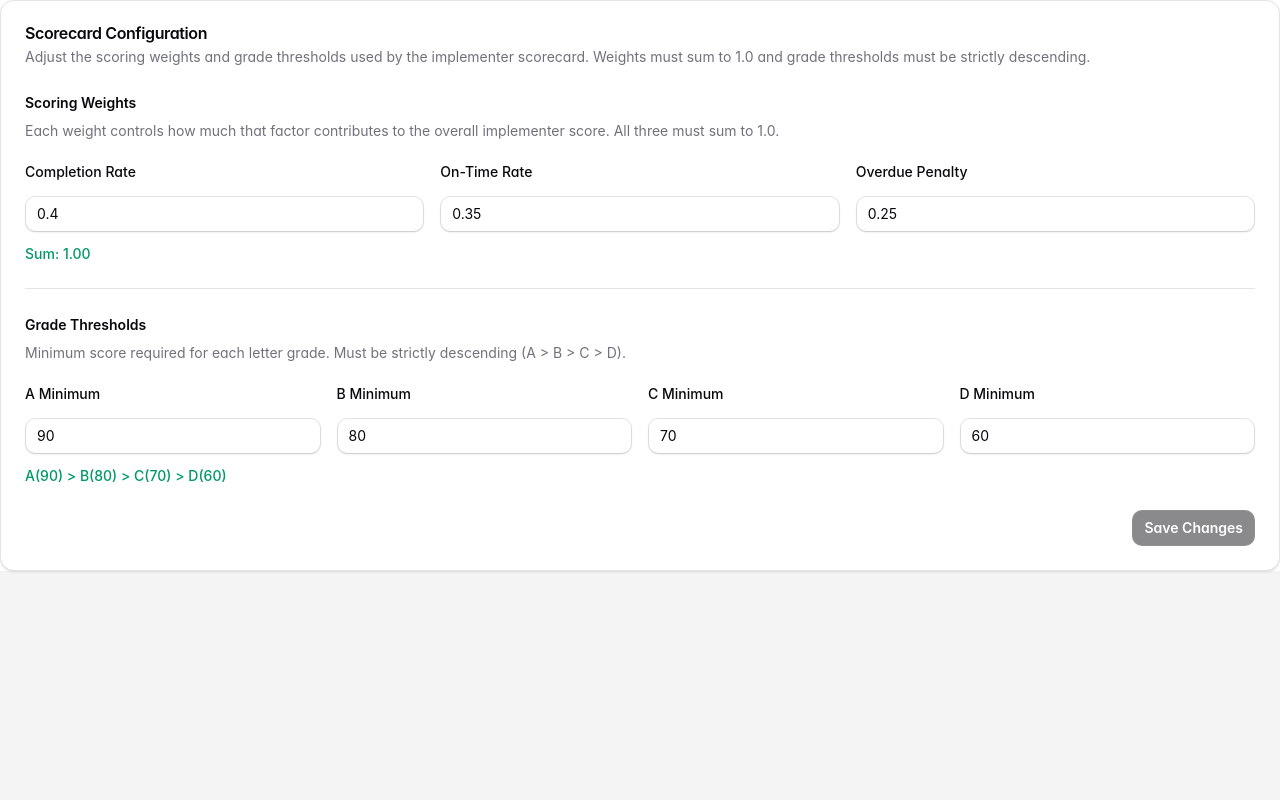
Test case: ScorecardConfigSection › enables Save button when form is dirty and valid
The image size is (1280, 800).
Expected: the text "Scoring Weights" is shown, [25,94,136,111]
Replace the text in the number field labelled "Completion Rate" with "0.45" at (225, 214), box [25,196,424,232]
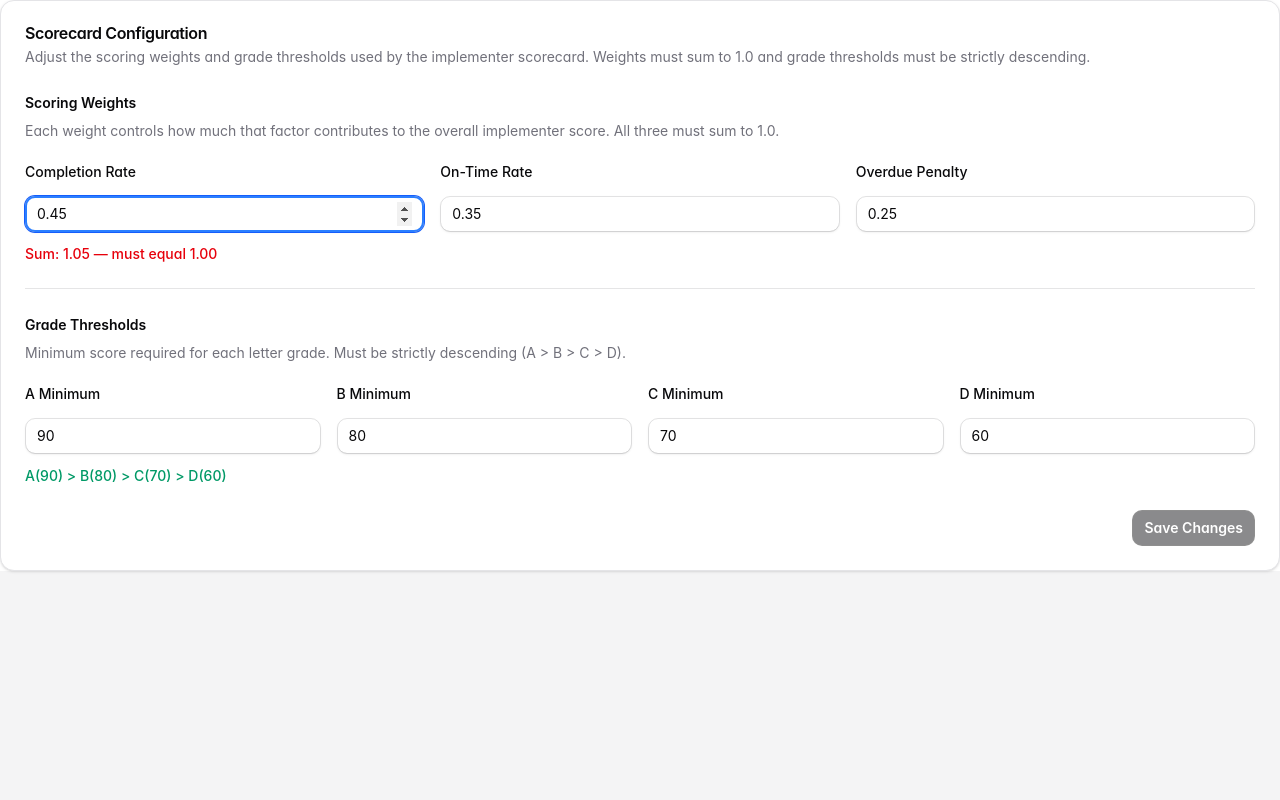
Replace the text in the number field labelled "On-Time Rate" with "0.3" at (640, 214), box [440,196,840,232]
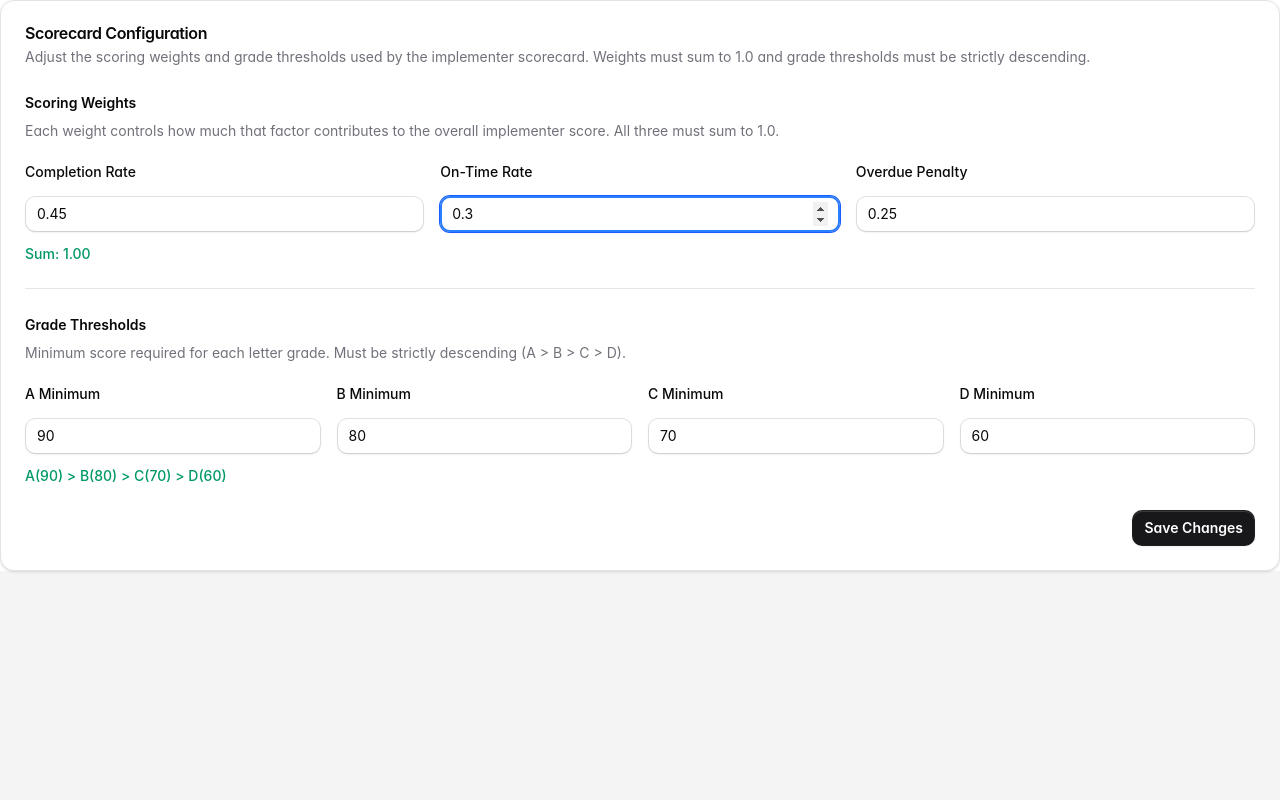
Now the button "Save Changes" is enabled, box [1132,510,1255,546]
